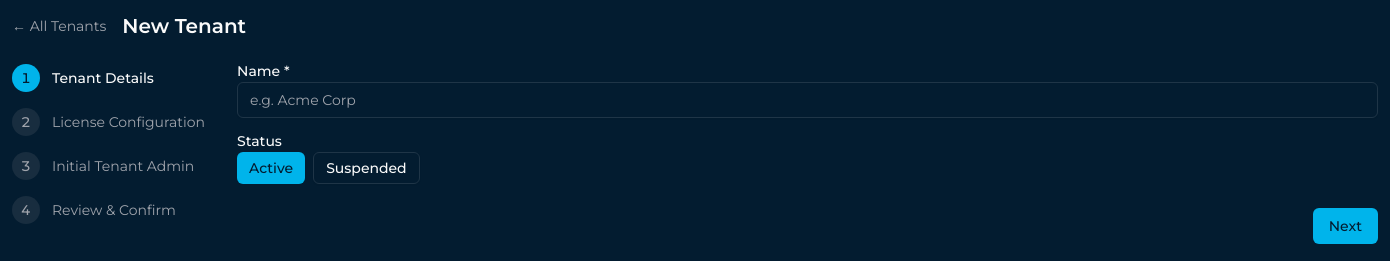
TenantProvisioningPage › back navigation: advance to step 2 then click Back renders step 1
Step 1. Type "Acme Corp" into the field labelled "Name *" → point(808, 100), box [237, 82, 1378, 118]
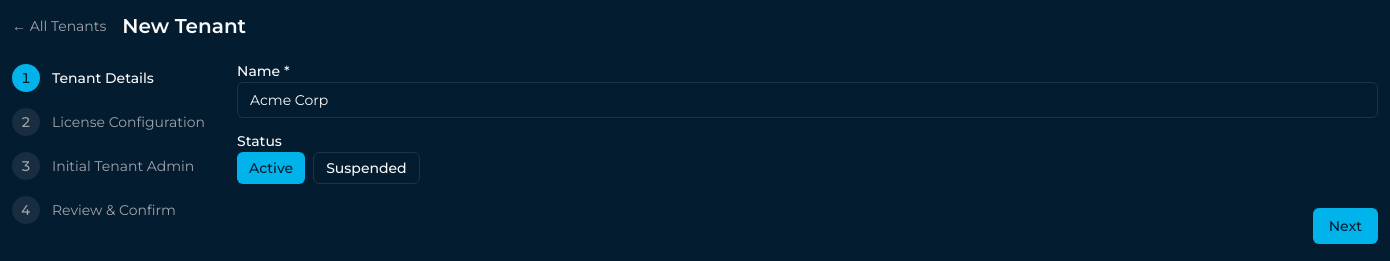
Step 2. Click the button "Next" → point(1345, 226), box [1313, 208, 1378, 244]
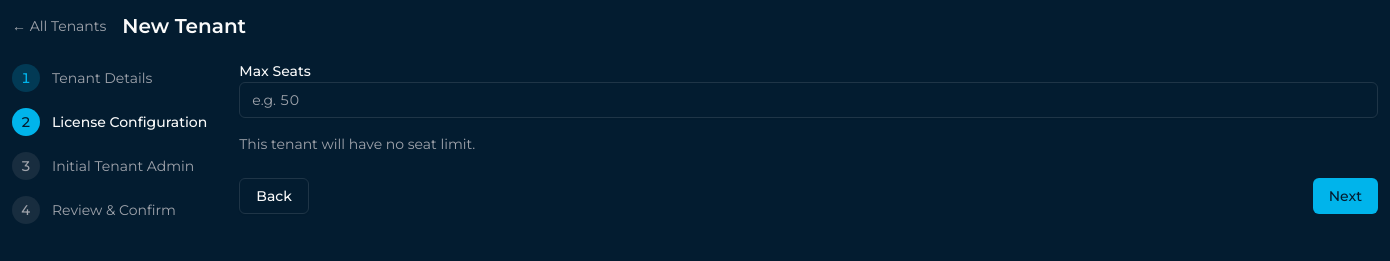
Expected: the number field labelled "Max Seats" is shown, [239, 82, 1378, 118]
Step 3. Click the button "Back" → point(274, 196), box [239, 178, 309, 214]
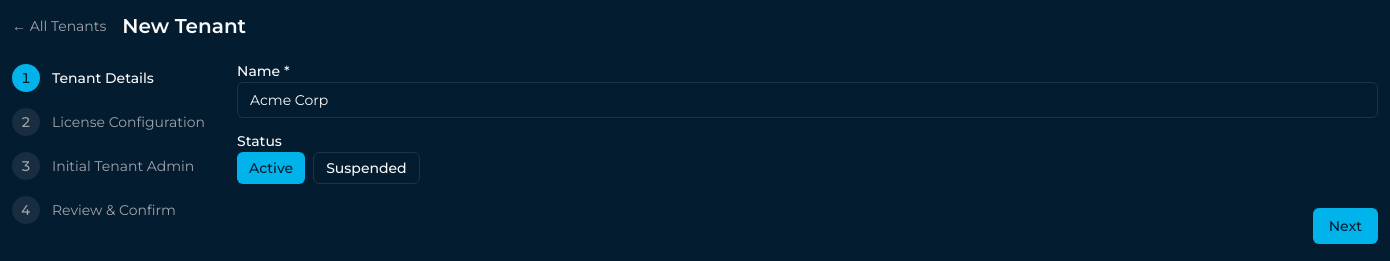
Expected: the field labelled "Name *" is shown, [237, 82, 1378, 118]
